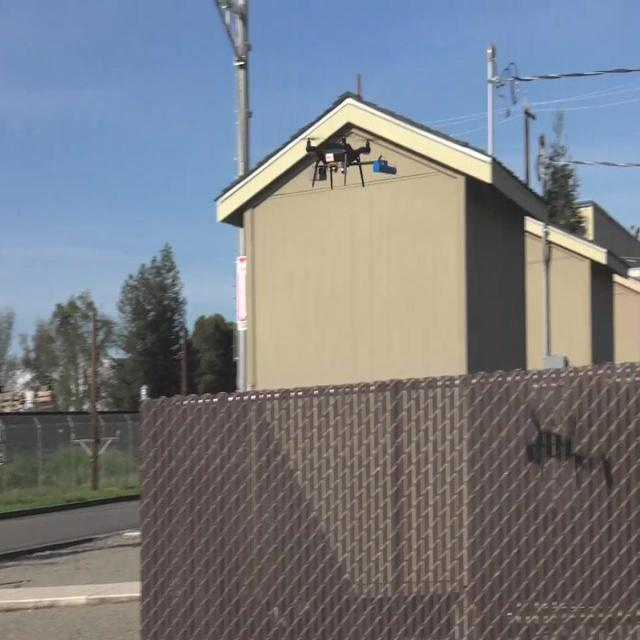drone: (298, 131, 398, 190)
